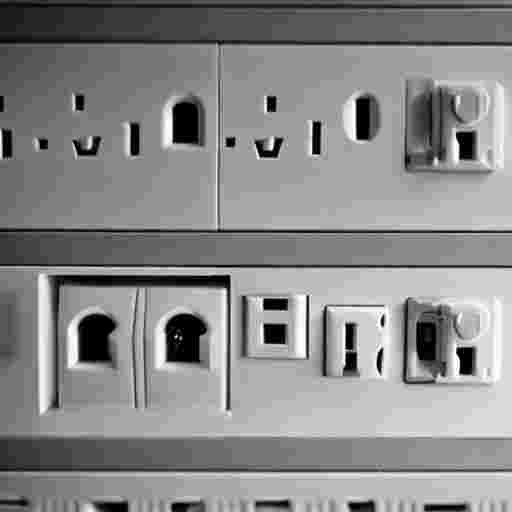power outlet: (404, 297, 501, 383)
